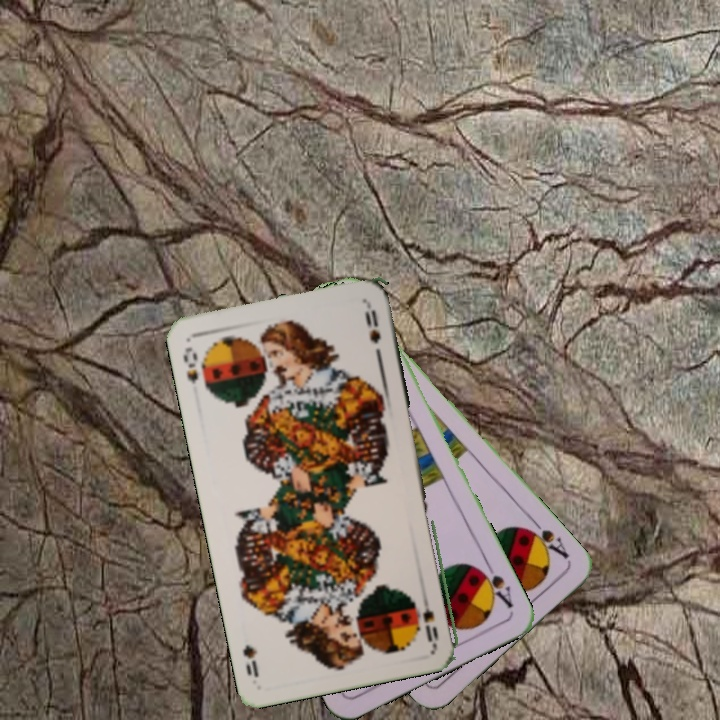SA: (520, 515, 572, 562), (473, 558, 516, 611)
SO: (417, 587, 441, 646), (178, 343, 201, 387)
